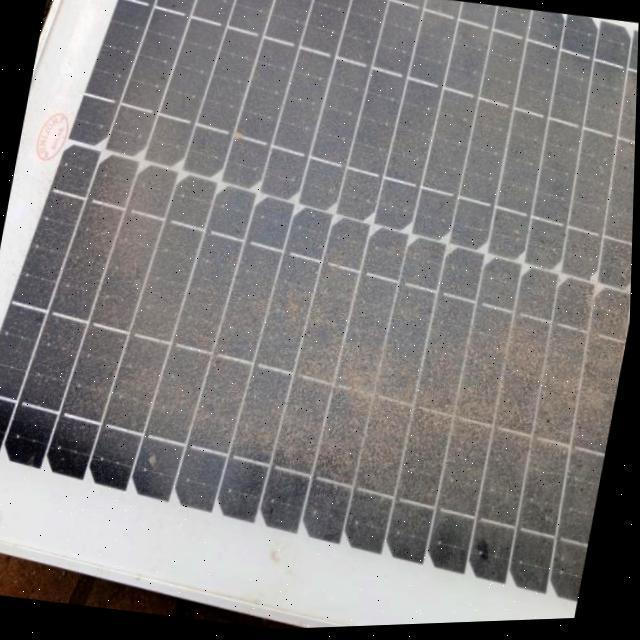Surface Contaminant: (19, 0, 639, 605)
